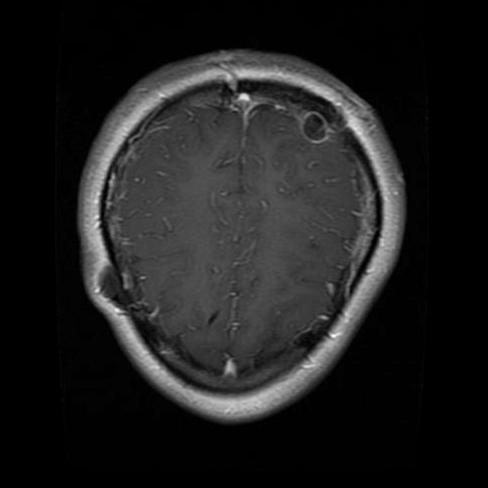Tumour-Glioma: (257, 91, 344, 159)
